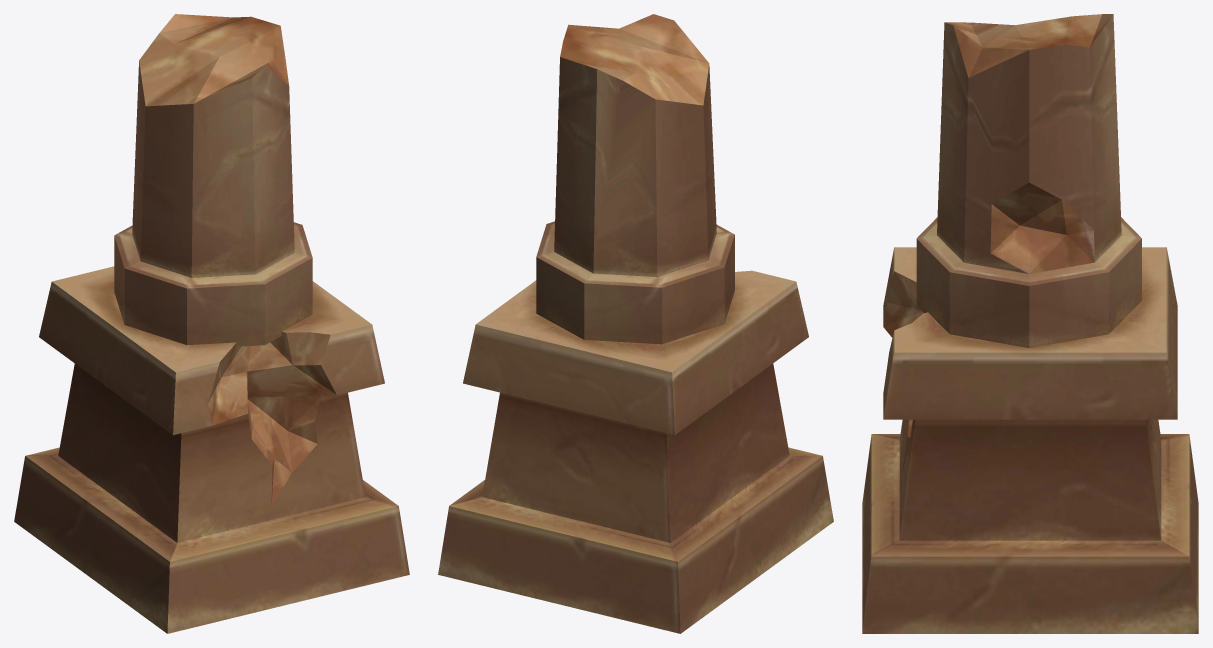
The model's file is YiJi_zhuzi_02.fbx.
The picture shows the model from 3 angles, left to right: view 1: azimuth 30°, elevation 25°; view 2: azimuth 150°, elevation 25°; view 3: azimuth 270°, elevation 25°; orthographic projection. The views are drawn at different scales.
Parts seen in each view (by area): view 1: YiJi_zhuzi_02; view 2: YiJi_zhuzi_02; view 3: YiJi_zhuzi_02.
Boxes of the visible parts, bbox=[...] form: YiJi_zhuzi_02: bbox=[14, 14, 409, 633]; YiJi_zhuzi_02: bbox=[438, 14, 833, 633]; YiJi_zhuzi_02: bbox=[862, 14, 1198, 633].
Bounding box in the file's own units: 1.3 × 2.59 × 1.42.
